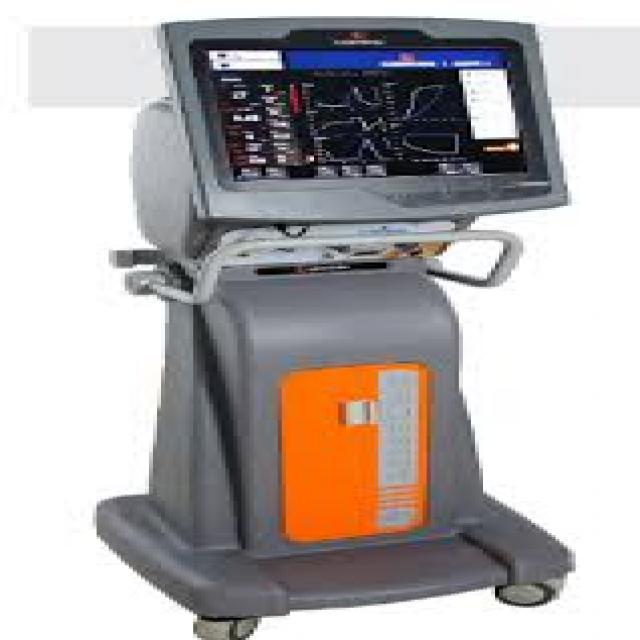ventilator: (102, 17, 513, 592)
